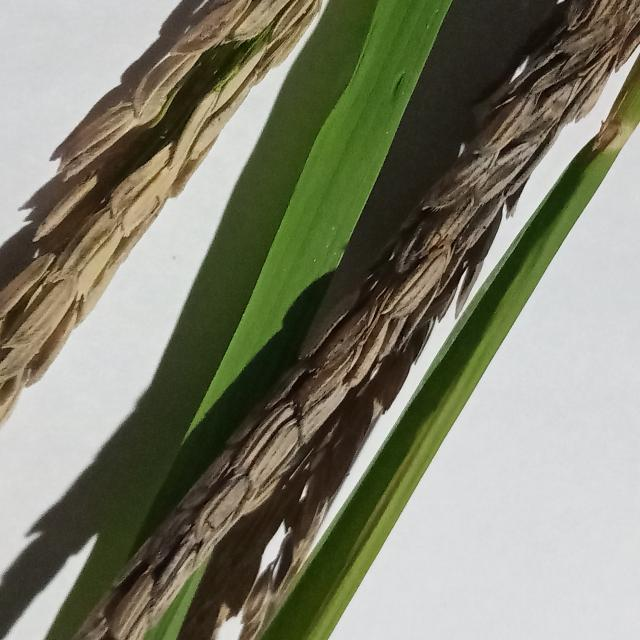Neck_Blast: (53, 0, 640, 640), (0, 0, 330, 447)
